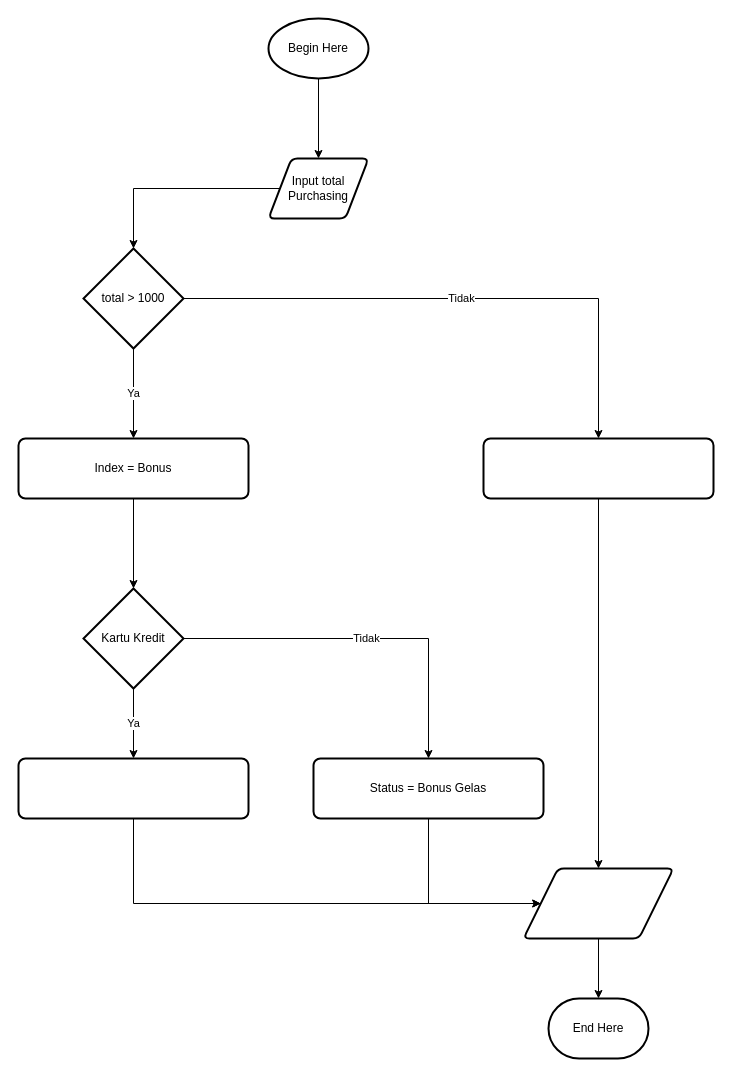
Image size: 731x1076. Some labels were removed from this diagram. Each missing label, with the centre of its shape:
Index = Tidak ada Bonus Status = Tidak ada Diskon: point (598, 468)
Status = Bonus Payung: point (133, 788)
Tampilkan Indeks dan Status: point (598, 903)
